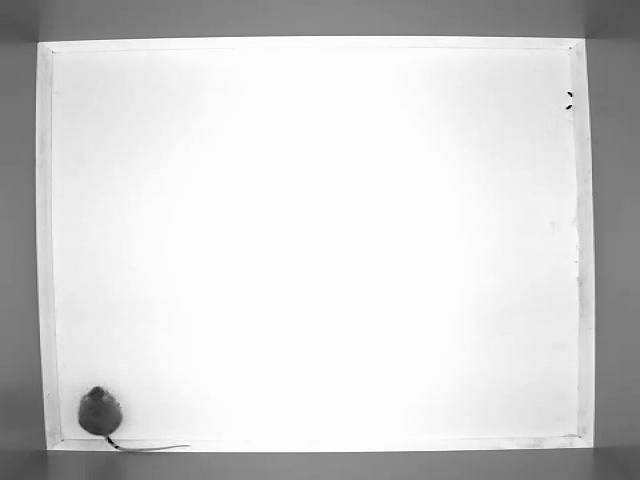Tikus: (74, 384, 194, 454)
